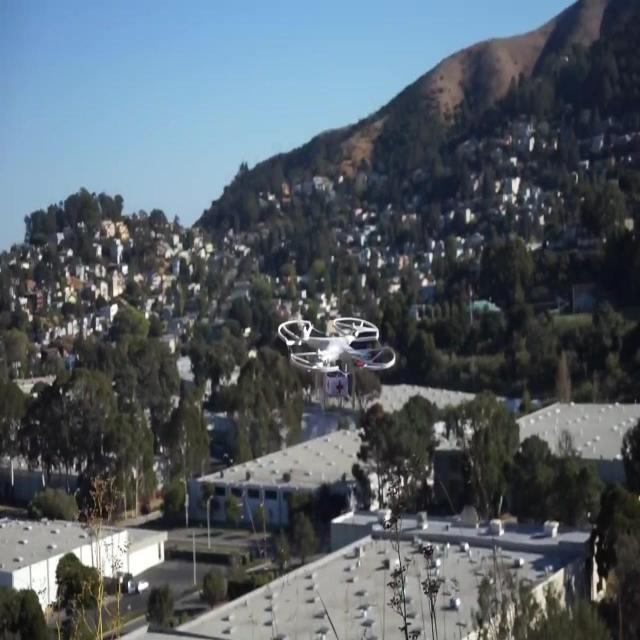UAV: (278, 317, 396, 378)
